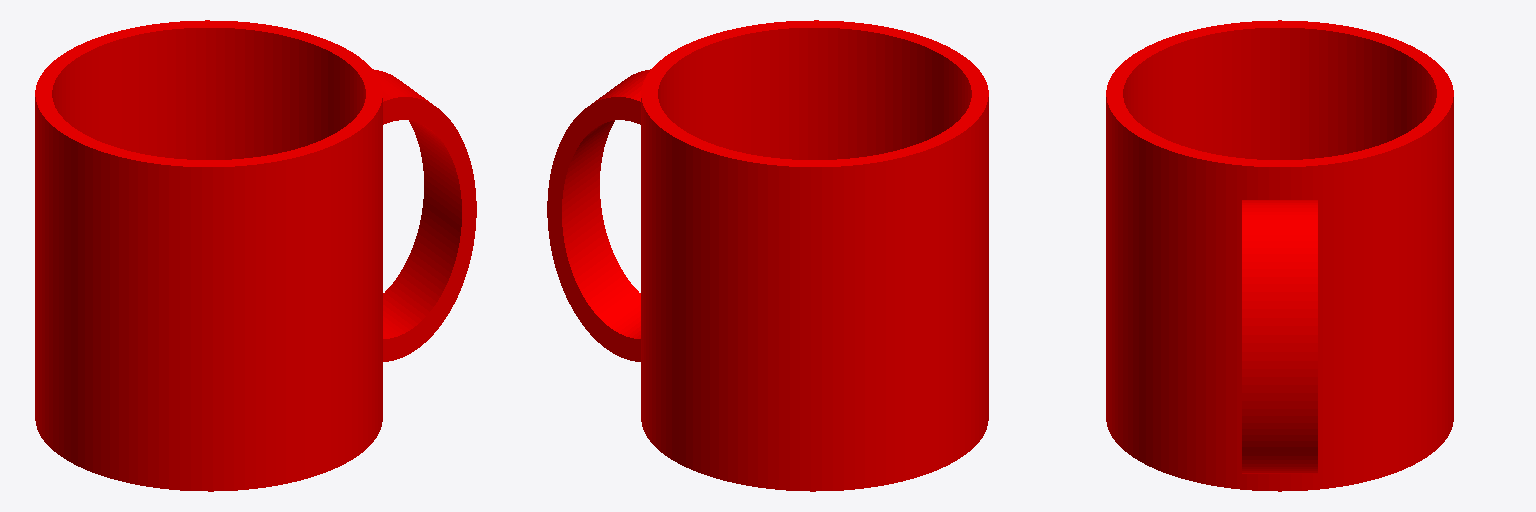
The robot description file, URDF, robot "mug.urdf":
<?xml version="1.0" ?>
<robot name="mug.urdf">
  <link name="baseLink">
    <inertial>
      <origin rpy="0 0 0" xyz="0 0 0"/>
       <mass value=".1"/>
       <inertia ixx="1" ixy="0" ixz="0" iyy="1" iyz="0" izz="1"/>
    </inertial>
    <contact>
      <lateral_friction value="1.0"/>
      <inertia_scaling value="3.0"/>
    </contact>
    <visual>
      <origin rpy="0 0 0" xyz="0 0 0"/>
      <geometry>
        <mesh filename="9.stl" scale="1 1 1" />
      </geometry>
      <material name="red">
        <color rgba="1 0 0 1"/>
      </material>
    </visual>
    <collision>
      <origin rpy="0 0 0" xyz="0 0 0"/>
      <geometry>
        <mesh filename="9_convex.obj" scale="1 1 1" />
      </geometry>
    </collision>
  </link>
</robot>

--- What the picture shows (computed from the rendered views, not written in the file) ---
The picture shows the robot from 3 angles, left to right: view 1: azimuth 30°, elevation 25°; view 2: azimuth 150°, elevation 25°; view 3: azimuth 270°, elevation 25°; orthographic projection.
Model mug.urdf with 1 links and 0 joints (none), rooted at baseLink, posed every joint at zero.
Visible links, largest first — view 1: baseLink; view 2: baseLink; view 3: baseLink.
Boxes of the visible links, left/top/right/bottom form: baseLink: left=35, top=20, right=476, bottom=491; baseLink: left=547, top=20, right=988, bottom=491; baseLink: left=1106, top=20, right=1453, bottom=491.
Size in the robot's own frame: 0.1366 by 0.103 by 0.1061 metres.
Meshes: 1 distinct files referenced, 1 mesh visuals loaded (1 binary STL).